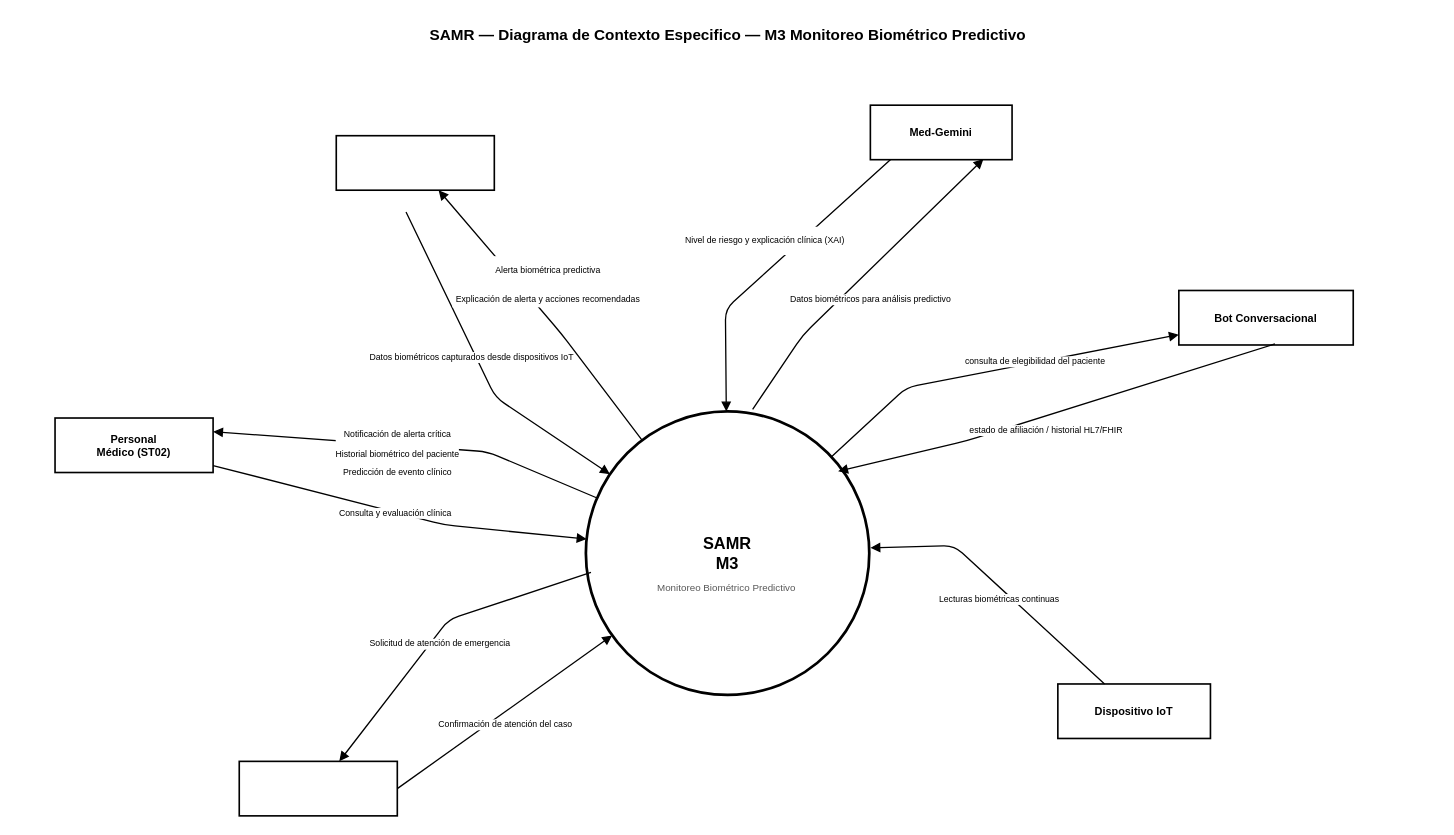
The diagram is 1454 pixels wide and 835 high, and some of its shapes have lost their labels. The centre of each missing label's shape, as x and y in pixels:
Centro de Asistencia (ST04): pixel 318 788
Paciente (ST01): pixel 415 162
